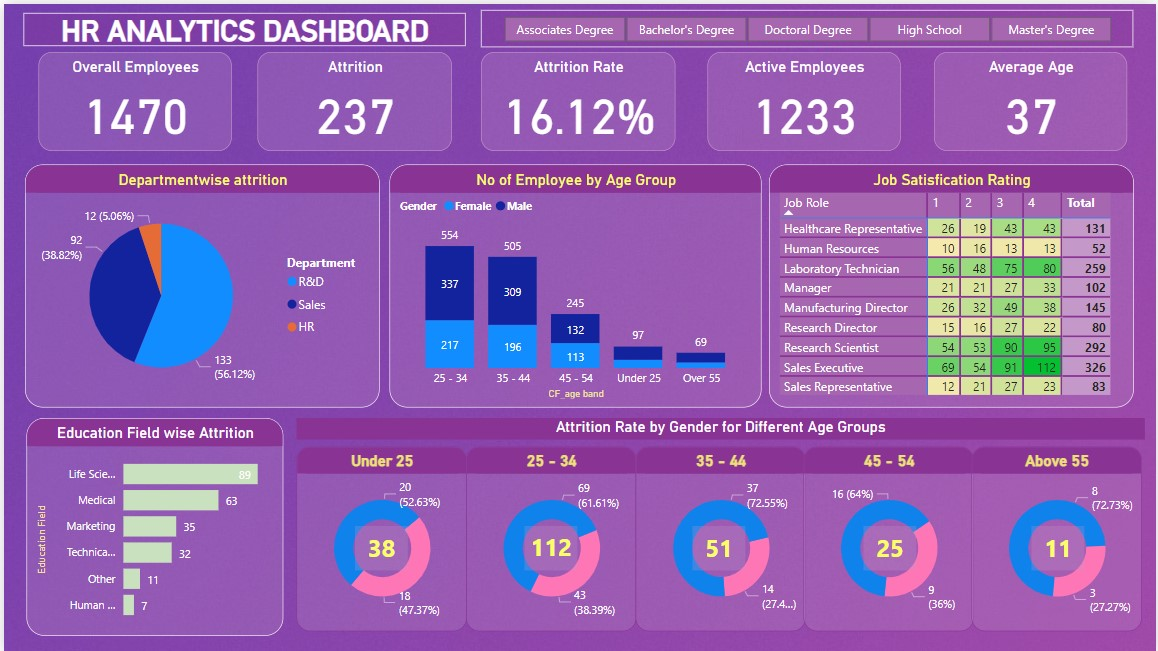

Layout of this report page (visuals, bound fields, positions):
{"tool":"powerbi","page":{"name":"Page 1","canvas":[1280,720],"ordinal":0},"visuals":[{"type":"card","title":"Overall Employees","fields":{"Values":["Sum(HR data.Employee Count)"]},"box":[38.1,54,214.6,109.7],"z":0},{"type":"card","title":"Attrition","fields":{"Values":["Sum(HR data.Attrition Count)"]},"box":[281.3,54,216.2,109.7],"z":1000},{"type":"card","title":"Attrition Rate","fields":{"Values":["HR data.Attrition Rate"]},"box":[529.3,54,216.2,109.7],"z":2000},{"type":"card","title":"Active Employees","fields":{"Values":["HR data.Active Employees"]},"box":[782,54,214.6,109.7],"z":3000},{"type":"card","title":"Average Age","fields":{"Values":["Avg(HR data.Age)"]},"box":[1033.1,54,214.6,109.7],"z":4000},{"type":"pieChart","title":"Departmentwise attrition","fields":{"Category":["HR data.Department"],"Y":["Sum(HR data.Attrition Count)"]},"box":[23.8,178,394.2,270.2],"z":5000},{"type":"columnChart","title":"No of Employee by Age Group","fields":{"Category":["HR data.CF_age band"],"Y":["Sum(HR data.Employee Count)"],"Series":["HR data.Gender"]},"box":[427.5,178,413.2,270.2],"z":6000},{"type":"pivotTable","title":"Job Satisfication Rating","fields":{"Rows":["HR data.Job Role"],"Columns":["HR data.Job Satisfaction"],"Values":["Sum(HR data.Employee Count)"]},"box":[850.3,178,405.3,270.2],"z":7000},{"type":"barChart","title":"Education Field wise Attrition","fields":{"Category":["HR data.Education Field"],"Y":["Sum(HR data.Attrition Count)"]},"box":[24.6,459.2,285.4,241.9],"z":8000},{"type":"textbox","title":"Attrition Rate by Gender for Different Age Groups","box":[324.2,459.3,942.5,23.8],"z":9000},{"type":"donutChart","title":"Under 25","fields":{"Category":["HR data.Gender"],"Y":["Sum(HR data.Attrition Count)"],"Series":["HR data.CF_age band"]},"box":[324.2,491.1,189.1,205],"z":10000},{"type":"donutChart","title":"25 - 34","fields":{"Category":["HR data.Gender"],"Y":["Sum(HR data.Attrition Count)"],"Series":["HR data.CF_age band"]},"box":[513.4,491.1,189.1,205],"z":11000},{"type":"donutChart","title":"35 - 44","fields":{"Category":["HR data.Gender"],"Y":["Sum(HR data.Attrition Count)"],"Series":["HR data.CF_age band"]},"box":[700.9,491.1,189.1,205],"z":12000},{"type":"donutChart","title":"45 - 54","fields":{"Category":["HR data.Gender"],"Y":["Sum(HR data.Attrition Count)"],"Series":["HR data.CF_age band"]},"box":[888.5,491.1,189.1,205],"z":13000},{"type":"donutChart","title":"Above 55","fields":{"Category":["HR data.Gender"],"Y":["Sum(HR data.Attrition Count)"],"Series":["HR data.CF_age band"]},"box":[1074.4,491.1,189.1,205],"z":14000},{"type":"card","fields":{"Values":["Sum(HR data.Attrition Count)"]},"box":[389.3,580.2,58.6,49.1],"z":15000},{"type":"card","fields":{"Values":["Sum(HR data.Attrition Count)"]},"box":[578.5,580.1,58.8,49.3],"z":16000},{"type":"card","fields":{"Values":["Sum(HR data.Attrition Count)"]},"box":[765.4,580.2,58.6,49.1],"z":17000},{"type":"card","fields":{"Values":["Sum(HR data.Attrition Count)"]},"box":[954.3,580.2,58.6,49.1],"z":18000},{"type":"card","fields":{"Values":["Sum(HR data.Attrition Count)"]},"box":[1141.4,580.2,58.6,49.1],"z":19000},{"type":"textbox","title":"HR ANALYTICS DASHBOARD","box":[22.3,9.5,491.1,36.6],"z":20000},{"type":"slicer","fields":{"Values":["HR data.Education"]},"box":[529.3,6.4,724.8,41.3],"z":21000}]}

Visuals, with their boxes in screenshot pixels (x1, y1, x2, y2), scaled from the page's 1280x720 canvas onto the 1158x651 screenshot:
"Overall Employees" card: bbox(34, 49, 229, 148)
"Attrition" card: bbox(254, 49, 450, 148)
"Attrition Rate" card: bbox(479, 49, 674, 148)
"Active Employees" card: bbox(707, 49, 902, 148)
"Average Age" card: bbox(935, 49, 1129, 148)
"Departmentwise attrition" pieChart: bbox(22, 161, 378, 405)
"No of Employee by Age Group" columnChart: bbox(387, 161, 761, 405)
"Job Satisfication Rating" pivotTable: bbox(769, 161, 1136, 405)
"Education Field wise Attrition" barChart: bbox(22, 415, 280, 634)
"Attrition Rate by Gender for Different Age Groups" textbox: bbox(293, 415, 1146, 437)
"Under 25" donutChart: bbox(293, 444, 464, 629)
"25 - 34" donutChart: bbox(464, 444, 636, 629)
"35 - 44" donutChart: bbox(634, 444, 805, 629)
"45 - 54" donutChart: bbox(804, 444, 975, 629)
"Above 55" donutChart: bbox(972, 444, 1143, 629)
card - Sum(HR data.Attrition Count): bbox(352, 525, 405, 569)
card - Sum(HR data.Attrition Count): bbox(523, 525, 577, 569)
card - Sum(HR data.Attrition Count): bbox(692, 525, 745, 569)
card - Sum(HR data.Attrition Count): bbox(863, 525, 916, 569)
card - Sum(HR data.Attrition Count): bbox(1033, 525, 1086, 569)
"HR ANALYTICS DASHBOARD" textbox: bbox(20, 9, 464, 42)
slicer - HR data.Education: bbox(479, 6, 1135, 43)
